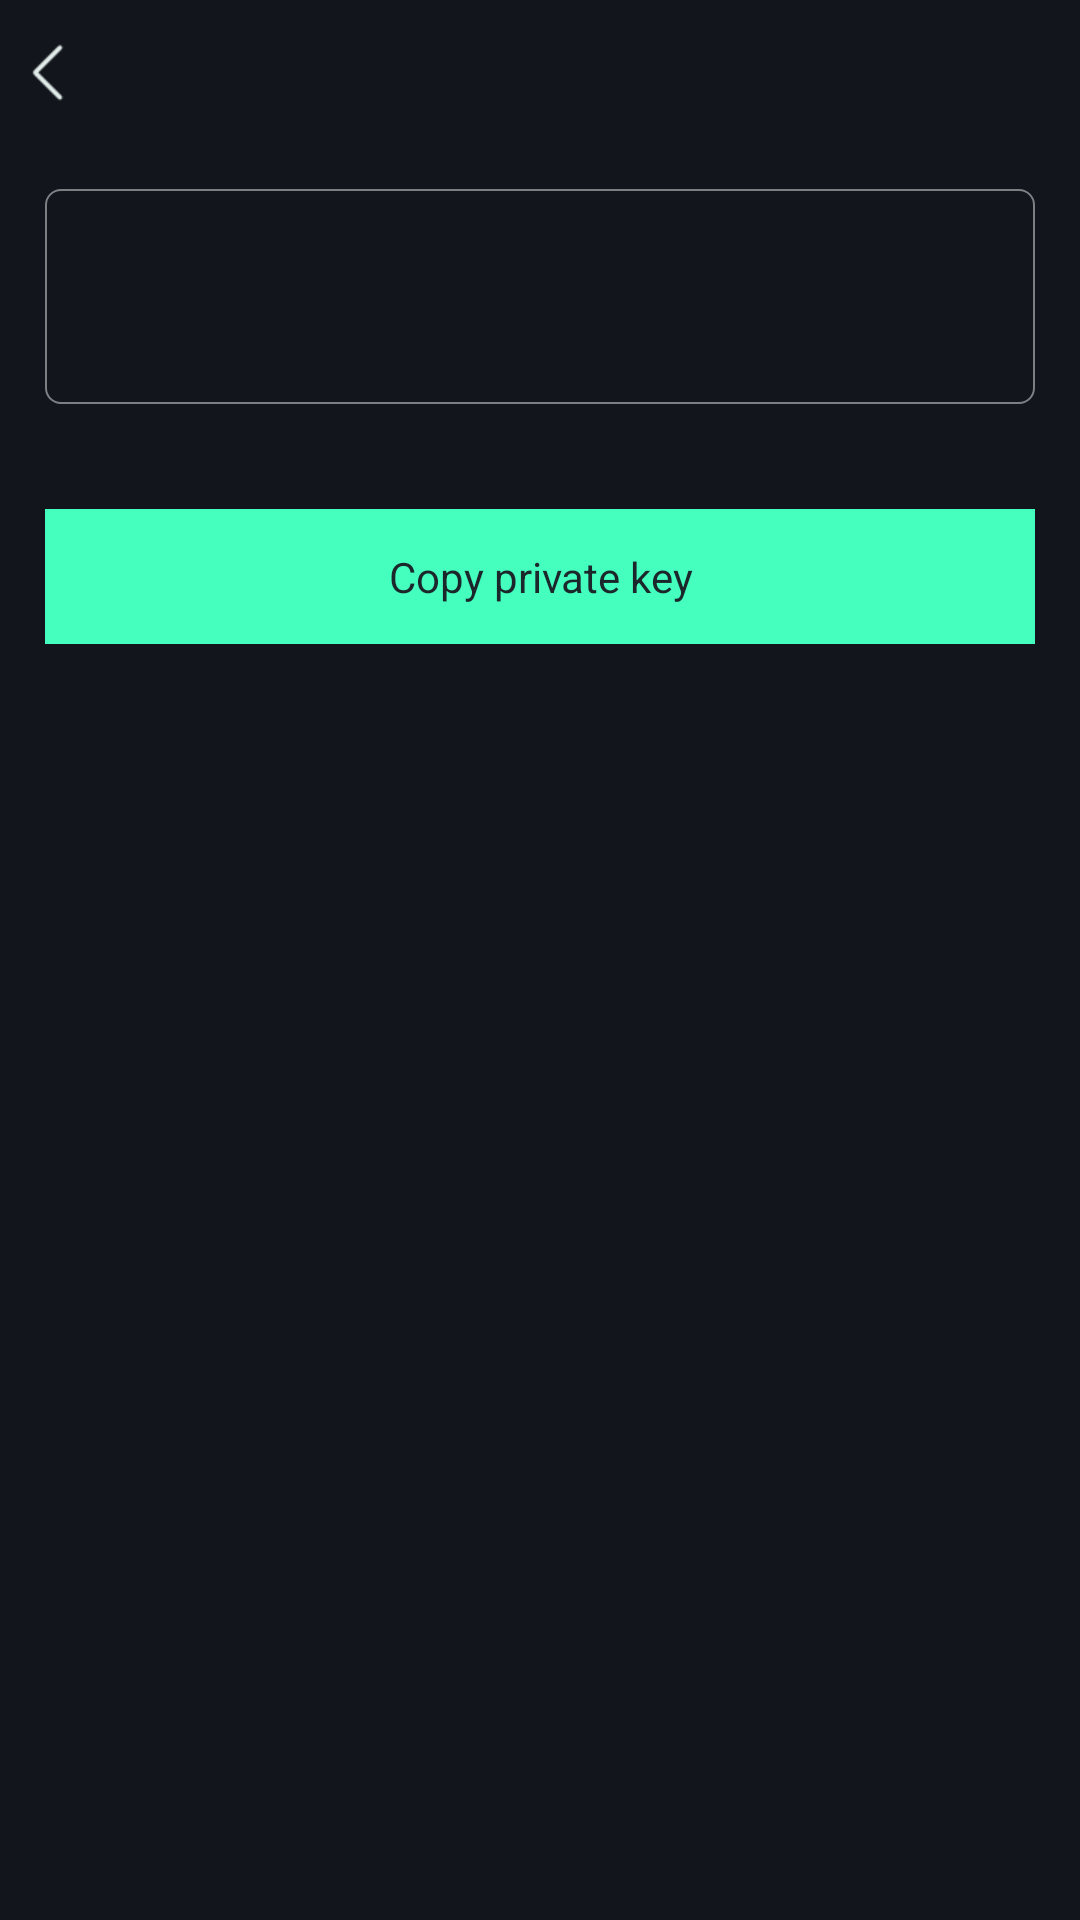

Locate icon controls on the screen. Image size 1080*1920, boxes as (x1, y1, x2, y2).
back: (32, 45, 63, 101)
